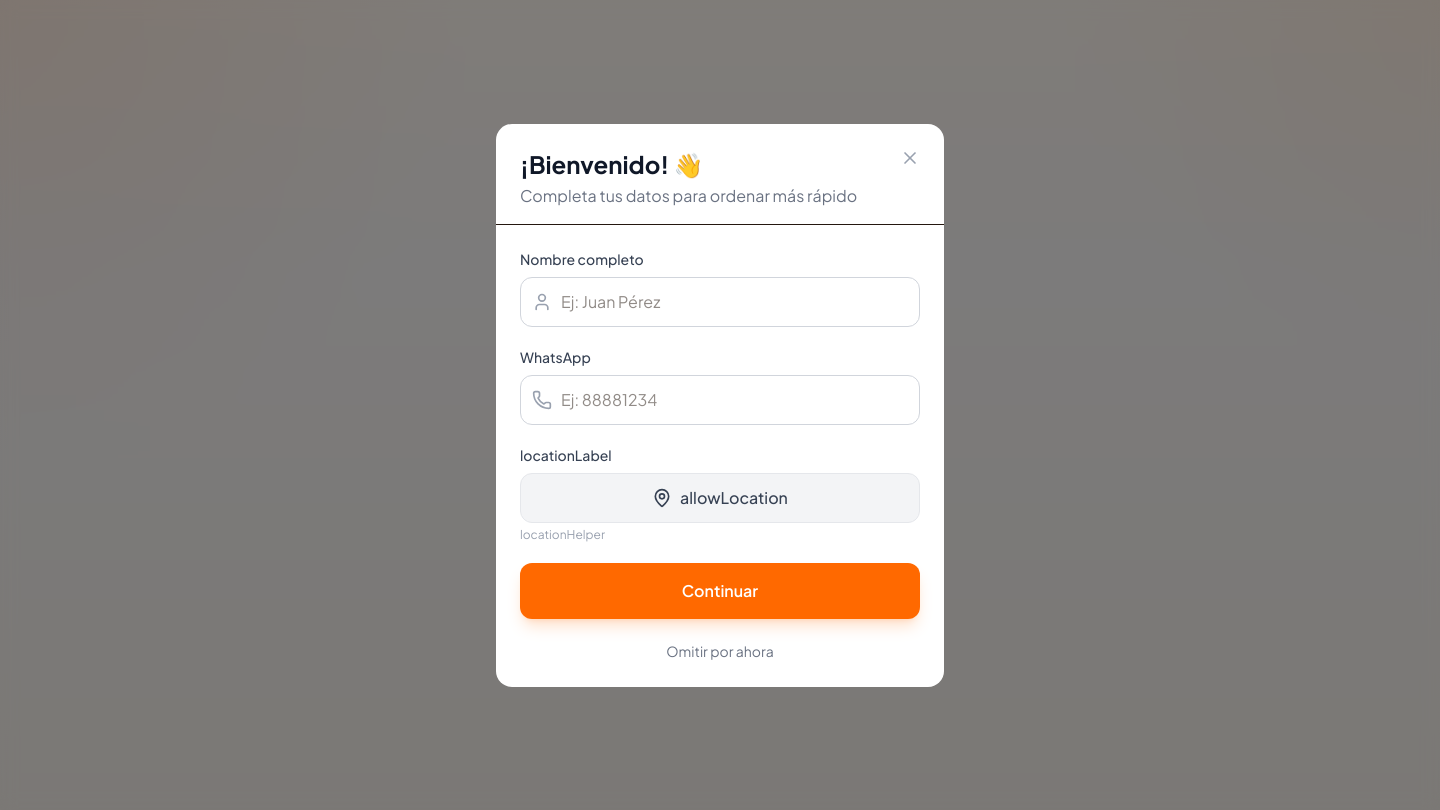
it: UserOnboardingModal › shows translated validation errors when submitting empty fields
Click the button "Continuar" at (720, 590), box [520,562,920,618]
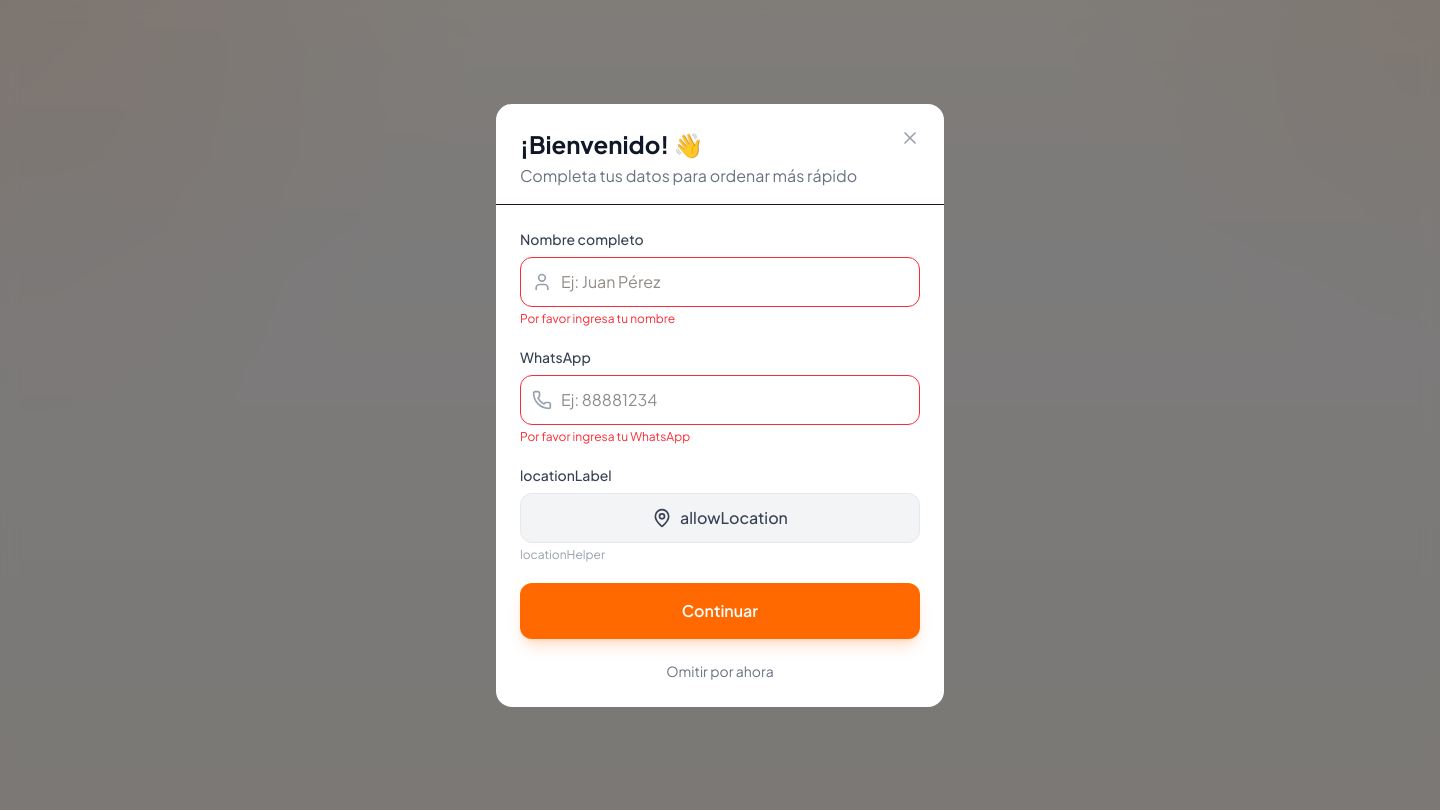
Check: the text "Por favor ingresa tu nombre" is shown, box [520,310,675,326]
Check: the text "Por favor ingresa tu WhatsApp" is shown, box [520,428,690,444]
